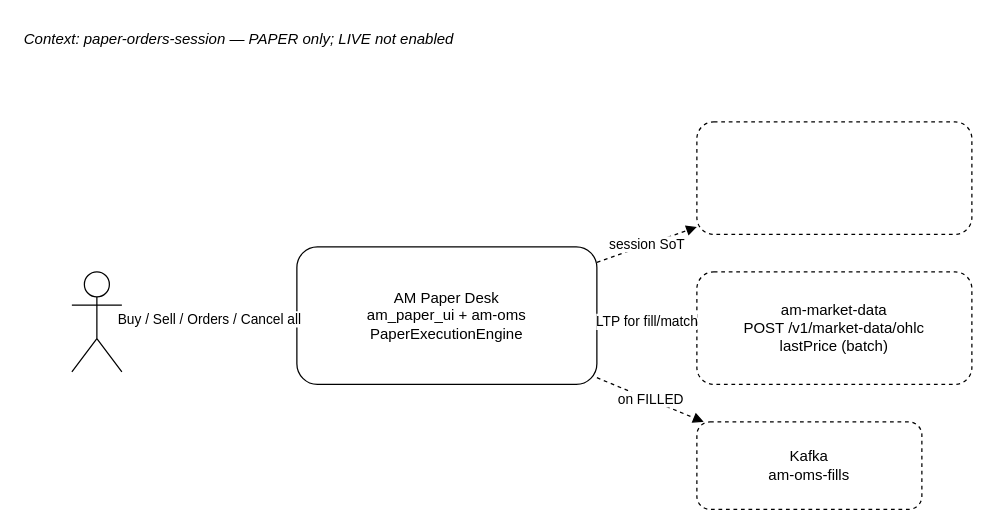
Image size: 994x531. Some labels were removed from this diagram. The shapes that lost their labels are listed below. From the top down, each one's centre as x and y in pixels, then its label:
point 834,177: am-market-data GET /v1/market-calendar/status (open / holiday / session)
point 96,321: Trader
